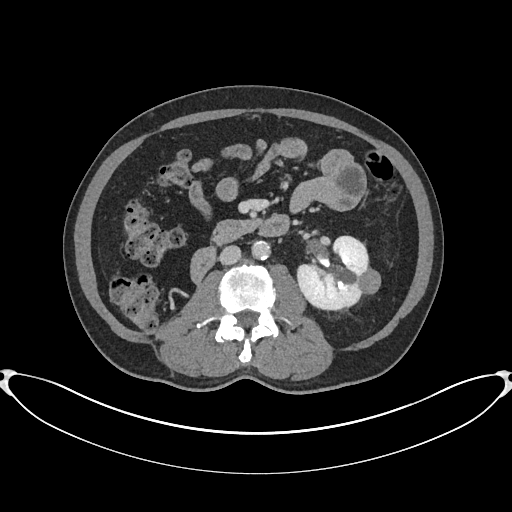Lesion: (356, 267, 381, 297)
